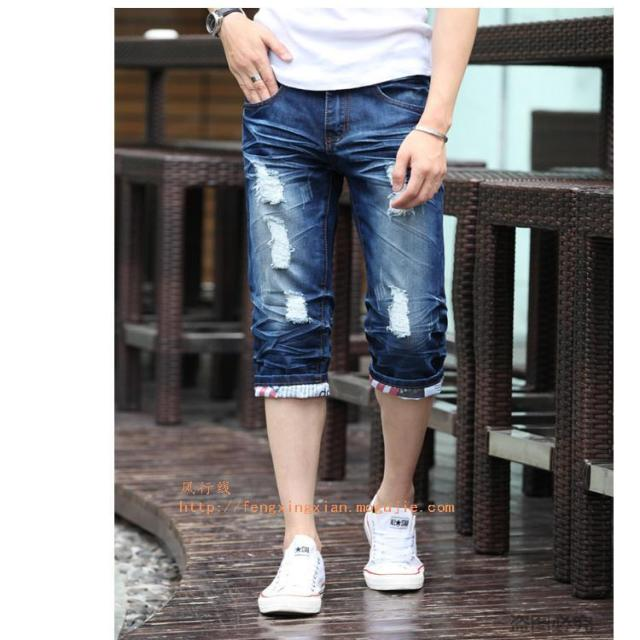short sleeve top: (251, 9, 440, 90)
trousers: (243, 50, 446, 398)
